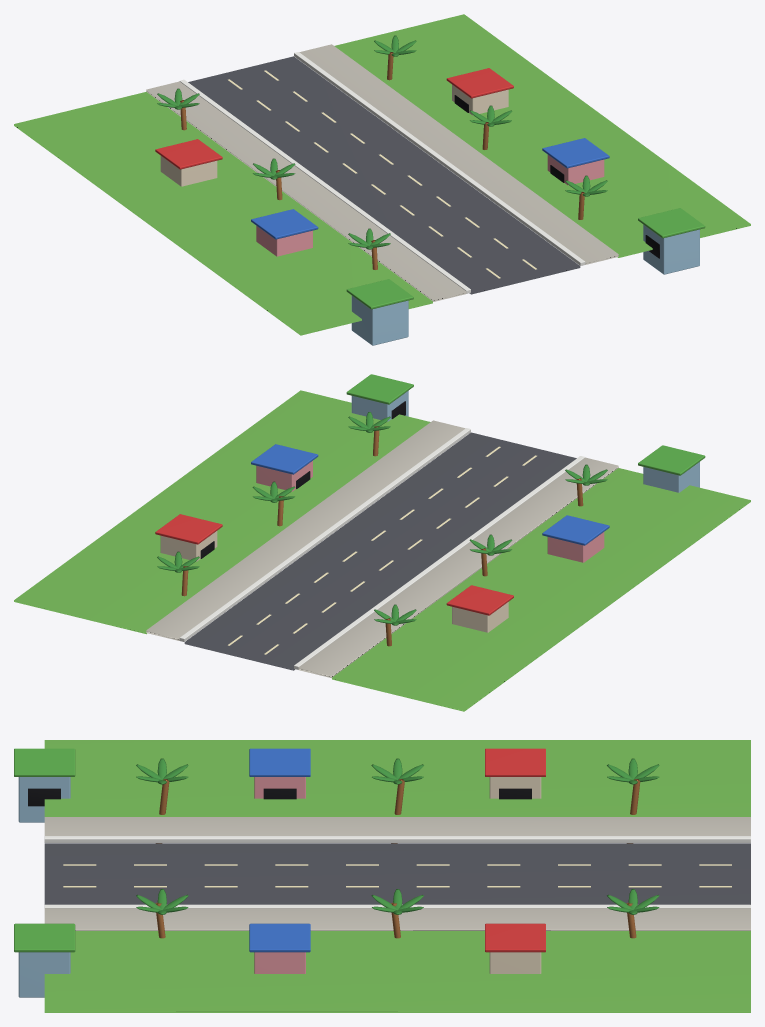
File: road.glb
The picture shows the model from 3 angles, top to bottom: view 1: azimuth 30°, elevation 25°; view 2: azimuth 150°, elevation 25°; view 3: azimuth 270°, elevation 25°; orthographic projection. The views are drawn at different scales.
Visible parts, largest first — view 1: Grass, Asphalt, Grass.001, Sidewalk.001, Sidewalk, Store.002, Store.005, Curb.001, Store, Store.001, Store.004, Store.003 (+7 smaller); view 2: Grass, Grass.001, Asphalt, Sidewalk.001, Sidewalk, Curb.001, Store.002, Store.005, Store.001, Store, Store.003, Store.004 (+7 smaller); view 3: Grass.001, Grass, Asphalt, Sidewalk.001, Sidewalk, Curb, Store.002, Store.005, Curb.001, Store.001, Store, Store.004 (+7 smaller).
Boxes of the visible parts, left/top/right/bottom form: Grass: left=14, top=91, right=432, bottom=335; Asphalt: left=188, top=56, right=580, bottom=294; Grass.001: left=334, top=14, right=750, bottom=257; Sidewalk.001: left=299, top=44, right=618, bottom=264; Sidewalk: left=146, top=81, right=466, bottom=301; Store.002: left=346, top=279, right=413, bottom=345; Store.005: left=638, top=208, right=705, bottom=274; Curb.001: left=294, top=52, right=585, bottom=265; Store: left=155, top=139, right=222, bottom=186; Store.001: left=251, top=209, right=318, bottom=256; Store.004: left=542, top=138, right=609, bottom=185; Store.003: left=446, top=68, right=513, bottom=115; Grass: left=332, top=468, right=750, bottom=711; Grass.001: left=14, top=390, right=430, bottom=634; Asphalt: left=184, top=432, right=576, bottom=670; Sidewalk.001: left=146, top=420, right=465, bottom=640; Sidewalk: left=298, top=457, right=618, bottom=678; Curb.001: left=179, top=428, right=470, bottom=641; Store.002: left=638, top=445, right=705, bottom=492; Store.005: left=346, top=374, right=413, bottom=421; Store.001: left=542, top=515, right=609, bottom=562; Store: left=446, top=585, right=513, bottom=632; Store.003: left=155, top=514, right=222, bottom=561; Store.004: left=251, top=444, right=318, bottom=491; Grass.001: left=44, top=931, right=750, bottom=1012; Grass: left=44, top=740, right=750, bottom=816; Asphalt: left=44, top=843, right=750, bottom=904; Sidewalk.001: left=44, top=908, right=750, bottom=930; Sidewalk: left=44, top=817, right=750, bottom=835; Curb: left=44, top=836, right=750, bottom=842; Store.002: left=14, top=748, right=75, bottom=822; Store.005: left=14, top=923, right=75, bottom=997; Curb.001: left=44, top=904, right=750, bottom=908; Store.001: left=249, top=748, right=310, bottom=799; Store: left=485, top=748, right=545, bottom=799; Store.004: left=249, top=923, right=310, bottom=973.
Bounding box in the file's own units: 27.2 × 3.47 × 31.3.
